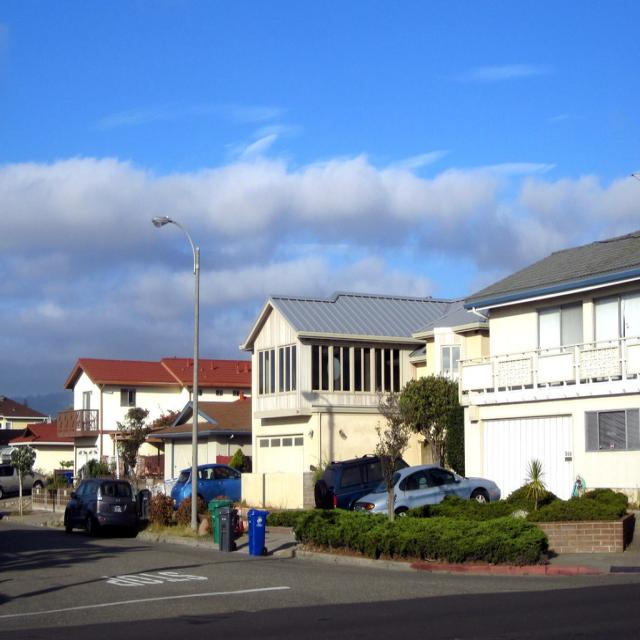car: (61, 476, 145, 540)
